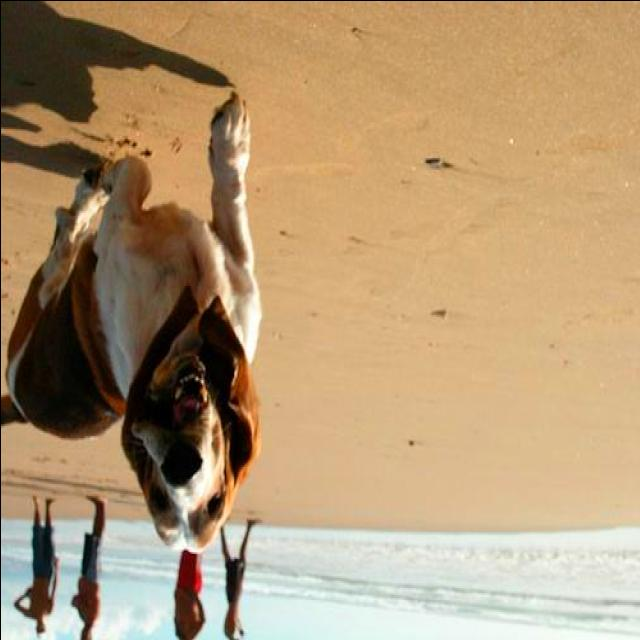basset: (1, 89, 262, 548)
